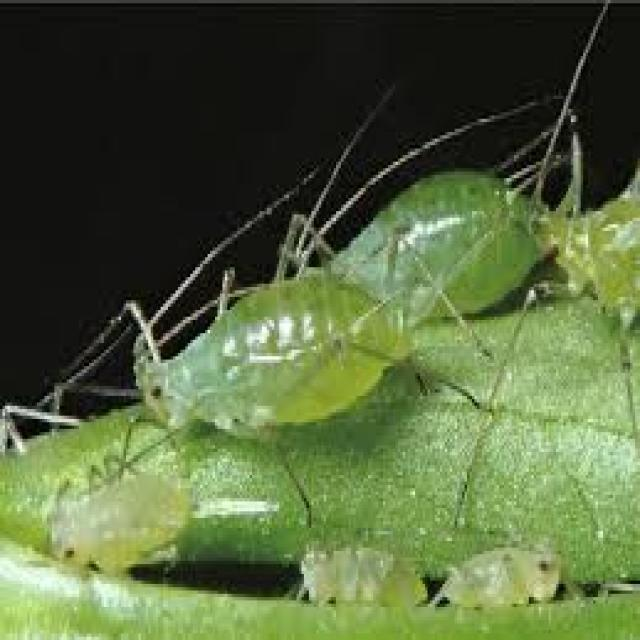Aphids: (110, 253, 426, 445), (28, 449, 212, 605)
